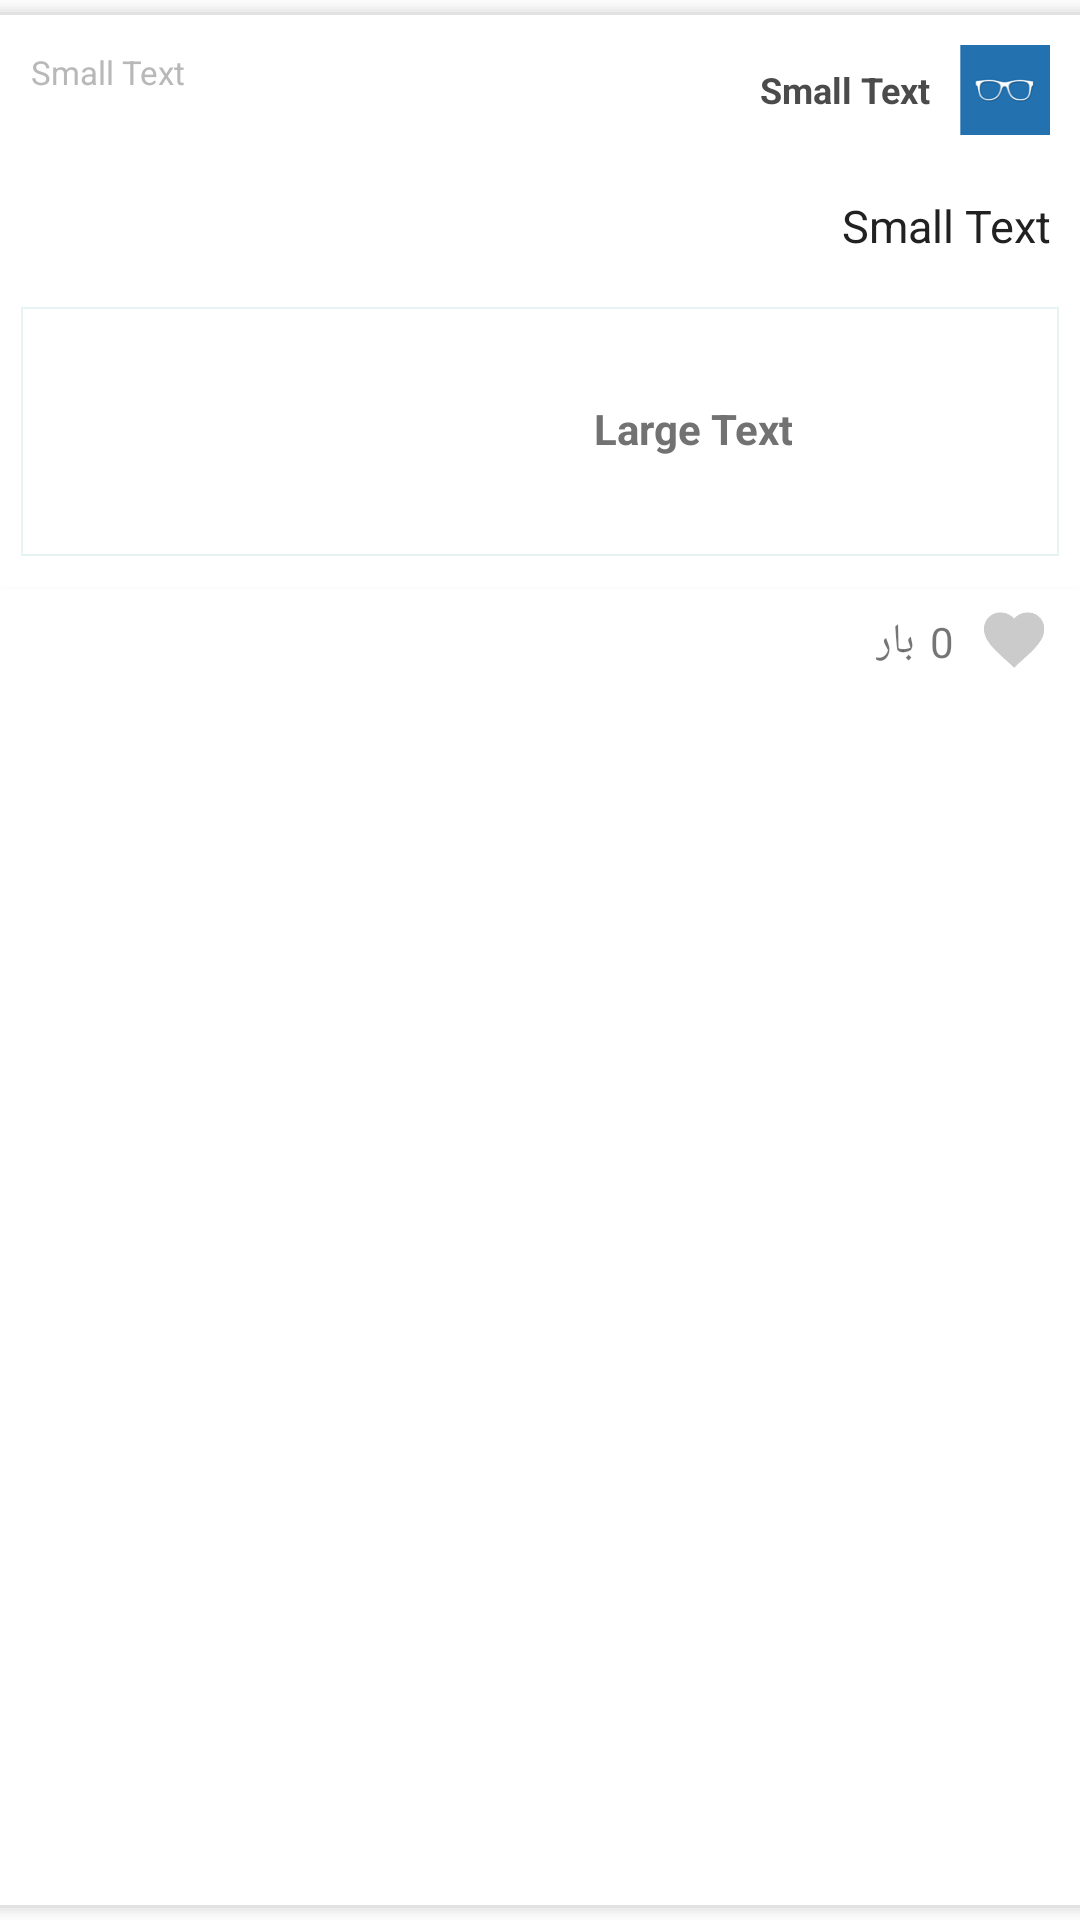

Point at icon controls on the screen. Image size 1080×1920, points as [x,y].
like check: [1014,640]
